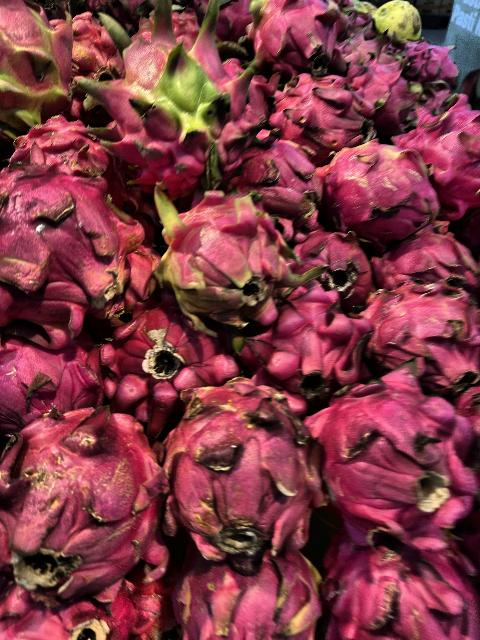buah-naga-belum-matang: (132, 162, 292, 326), (87, 11, 241, 177), (319, 134, 439, 240), (0, 0, 78, 150)
buah-naga-matang: (292, 356, 469, 532), (3, 402, 175, 582), (164, 382, 326, 558), (0, 156, 142, 334), (316, 534, 472, 640), (181, 528, 321, 640), (362, 266, 480, 394), (243, 277, 369, 389), (94, 304, 234, 401), (1, 571, 162, 639), (270, 66, 376, 150), (360, 223, 480, 297), (220, 123, 322, 210), (3, 334, 95, 418), (237, 1, 345, 72), (402, 120, 480, 216), (285, 226, 377, 300), (342, 54, 421, 124)
